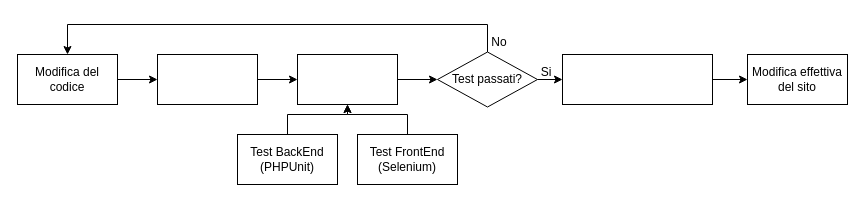
Image size: 865x202. Some labels were removed from this diagram. The box of each missing label's shape, as (x1, y1, x2, y2) in pixels:
Push su GestioneCasino: (156, 54, 258, 104)
Push su GestioneCasinoProduction: (562, 54, 712, 104)
Test di Jenkins: (296, 54, 398, 104)
